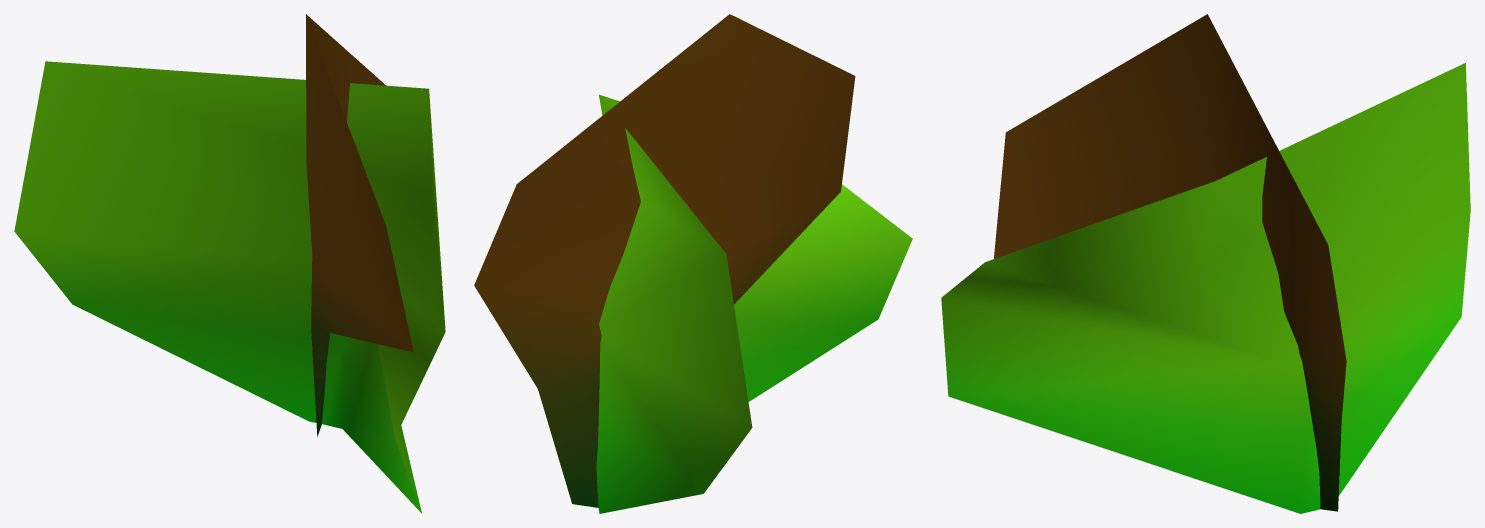
Rendered from Var1Hi34.fbx.
3 renders of one model, left to right at view 1: azimuth 30°, elevation 25°; view 2: azimuth 150°, elevation 25°; view 3: azimuth 270°, elevation 25°, orthographic. The views are drawn at different scales.
Parts seen in each view (by area): view 1: bend1; view 2: bend1; view 3: bend1.
Part boxes in pixels (x1,y1,x2,y2): bend1: (14, 14, 445, 513); bend1: (474, 14, 912, 513); bend1: (941, 14, 1470, 513).
Bounding box in the file's own units: 1.04 × 1.38 × 1.42.
